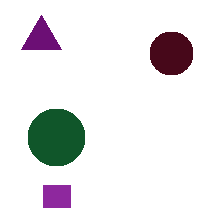circle: (28, 109, 84, 165), (150, 32, 192, 74)
rectangle: (43, 185, 70, 207)
triangle: (21, 15, 61, 49)
